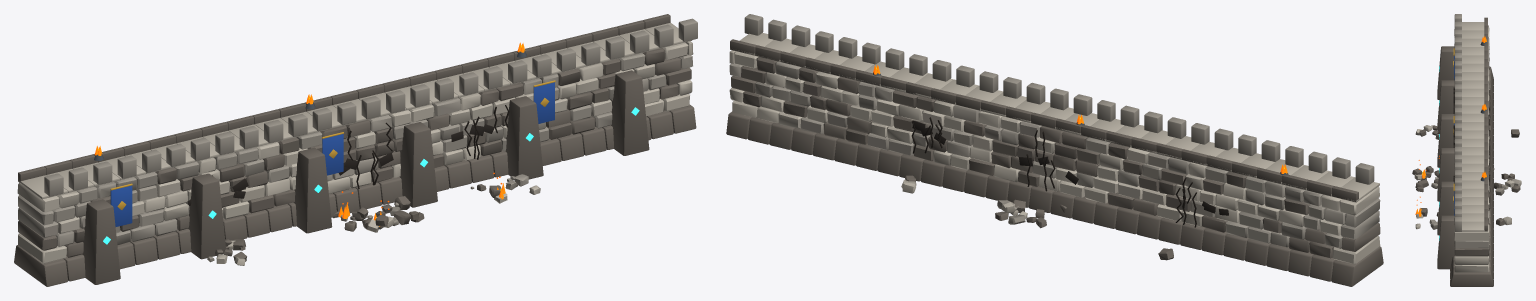
File: mur_bok_etap5.glb
3 renders of one model, left to right at view 1: azimuth 30°, elevation 25°; view 2: azimuth 150°, elevation 25°; view 3: azimuth 270°, elevation 25°, orthographic. The views are drawn at different scales.
Parts seen in each view (by area): view 1: mur_bok_etap5; view 2: mur_bok_etap5; view 3: mur_bok_etap5.
Boxes of the visible parts, bbox=[...] form: mur_bok_etap5: bbox=[14, 14, 697, 286]; mur_bok_etap5: bbox=[726, 14, 1383, 286]; mur_bok_etap5: bbox=[1412, 14, 1521, 286].
Size of the model in its own units: 40.31 by 6.24 by 8.88.
